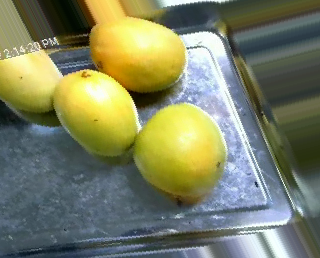Mango: (133, 103, 226, 196), (53, 69, 142, 155), (88, 17, 186, 91), (0, 47, 64, 113)
